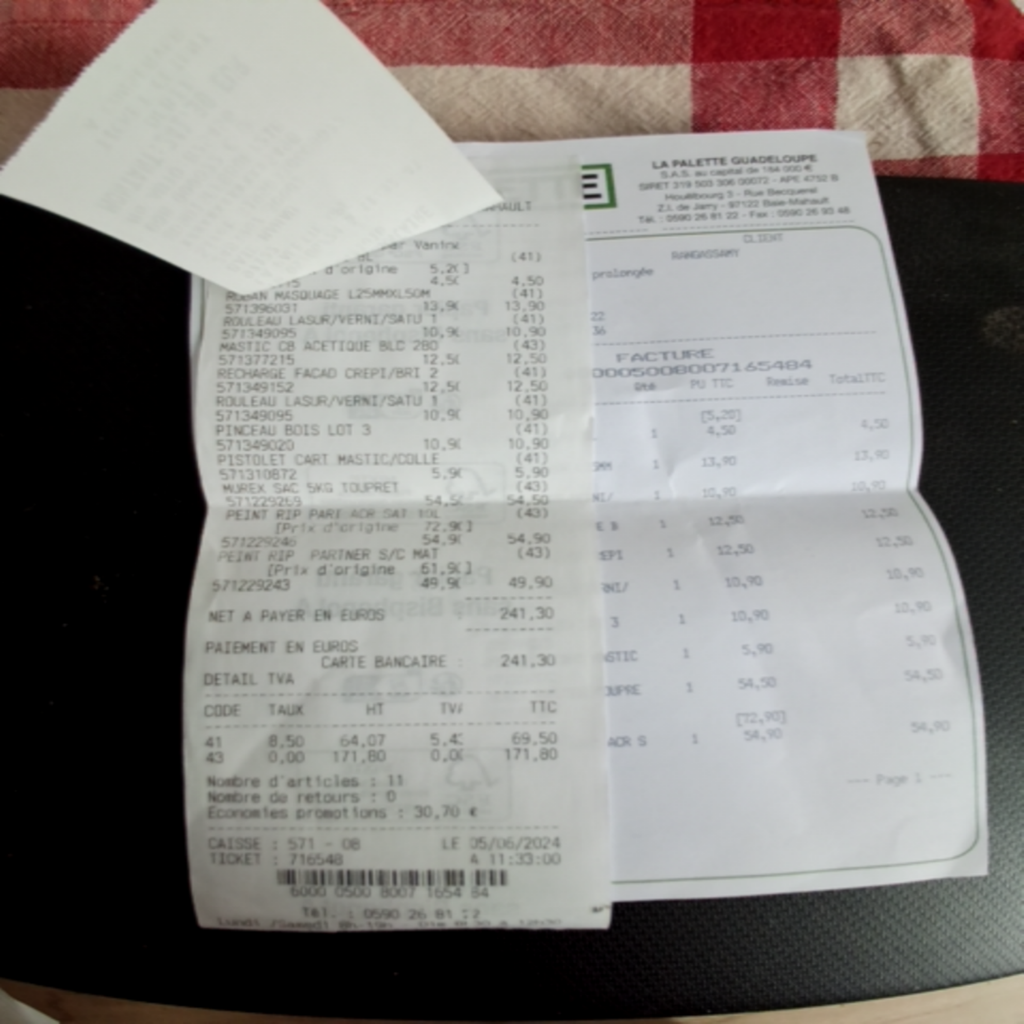recipt: (181, 132, 988, 932)
